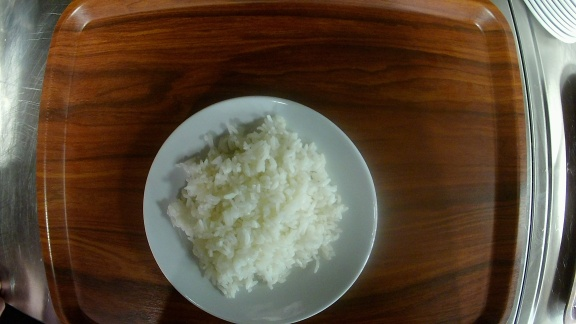pilav: (145, 95, 379, 323)
